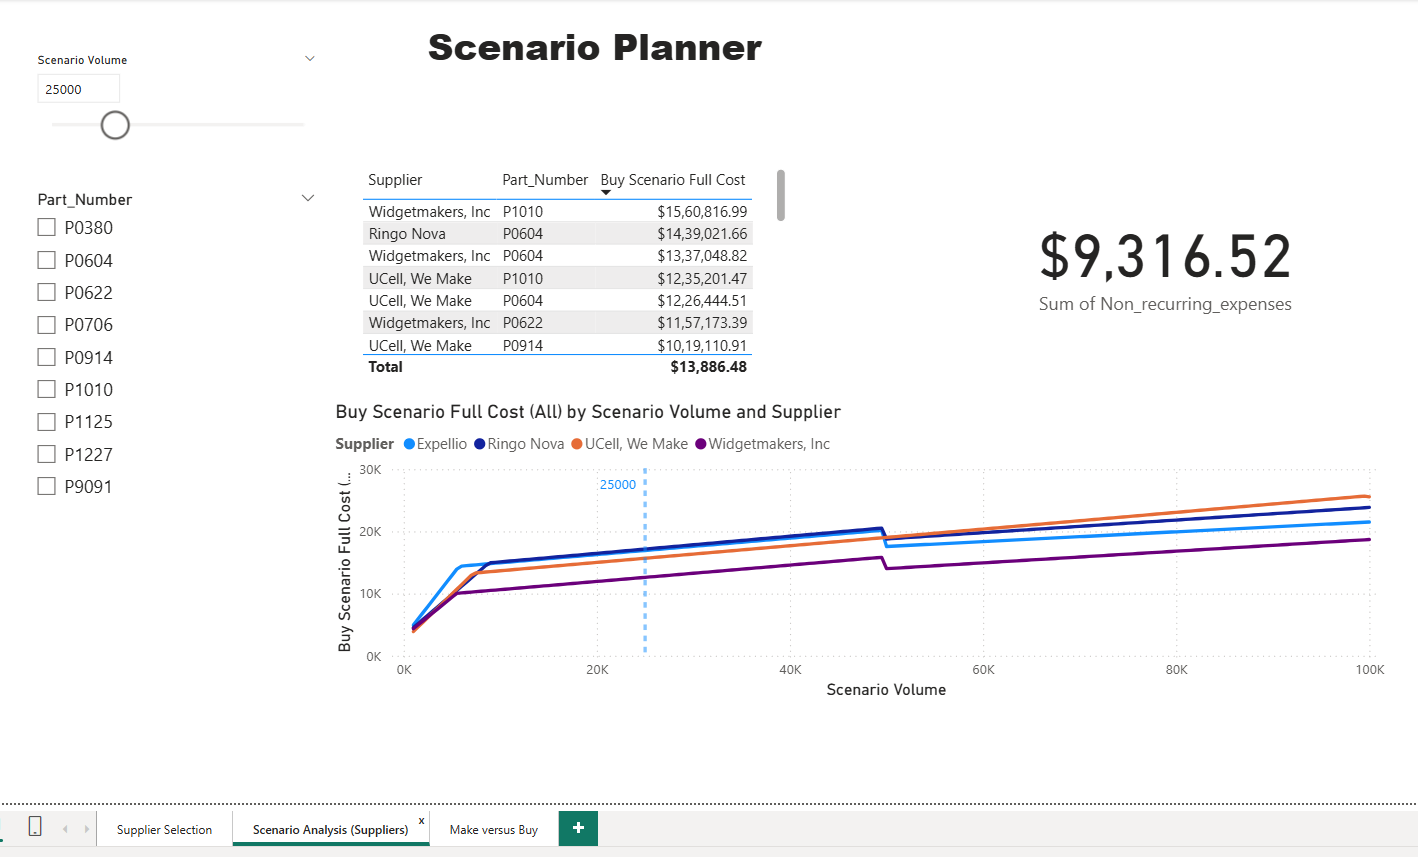

This screenshot's page, from the dashboard's own definition file:
{"tool":"powerbi","page":{"name":"Scenario Analysis (Suppliers)","canvas":[1280,720],"ordinal":1},"visuals":[{"type":"slicer","fields":{"Values":["Scenario Volume.Scenario Volume"]},"box":[24.2,42.7,274.5,123.7],"z":0},{"type":"tableEx","fields":{"Values":["Quotes.Supplier","Quotes.Part_Number","Scenario Volume.Scenario Full Cost"]},"box":[322.4,146.9,390.4,196.1],"z":1000},{"type":"textbox","box":[381.2,14.2,339.9,56.9],"z":2000},{"type":"slicer","fields":{"Values":["Quotes.Part_Number"]},"box":[24.2,166.4,274.5,308.6],"z":3000},{"type":"card","fields":{"Values":["Sum(Quotes.Non_recurring_expenses)"]},"box":[880.3,146.9,334,173.7],"z":4000},{"type":"lineChart","fields":{"Category":["Scenario Volumes (All).Scenario Volume"],"Series":["Quotes.Supplier"],"Y":["Scenario Volumes (All).Scenario Full Cost (All)"]},"box":[299.1,359.5,949.8,272.4],"z":5000}]}

Visuals, with their boxes on the page's 1280x720 design canvas (x1, y1, x2, y2). These are canvas units, not pixel positions in the 1418x857 screenshot, which may show the page scaled, cropped or inside an application window:
slicer - Scenario Volume.Scenario Volume: region(24, 43, 299, 166)
tableEx - Quotes.Supplier x Quotes.Part_Number: region(322, 147, 713, 343)
textbox: region(381, 14, 721, 71)
slicer - Quotes.Part_Number: region(24, 166, 299, 475)
card - Sum(Quotes.Non_recurring_expenses): region(880, 147, 1214, 321)
lineChart - Scenario Volumes (All).Scenario Volume x Quotes.Supplier: region(299, 360, 1249, 632)
